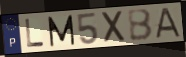5: (75, 11, 100, 46)
A: (153, 7, 183, 40)
B: (126, 8, 154, 43)
L: (24, 18, 46, 49)
M: (46, 14, 77, 48)
X: (100, 9, 128, 45)
